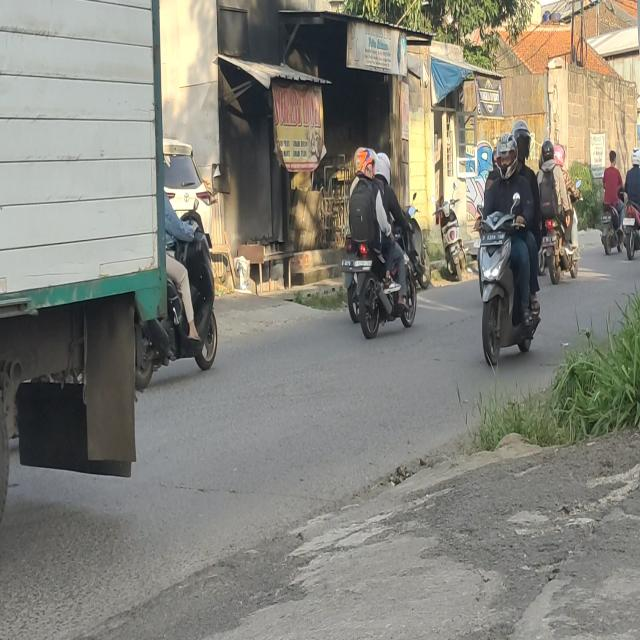helmet: (497, 134, 517, 175), (512, 120, 531, 160), (358, 148, 376, 180), (377, 151, 392, 185), (554, 143, 566, 167), (542, 142, 554, 161), (632, 148, 640, 168)
no-helmet: (609, 149, 616, 167)
